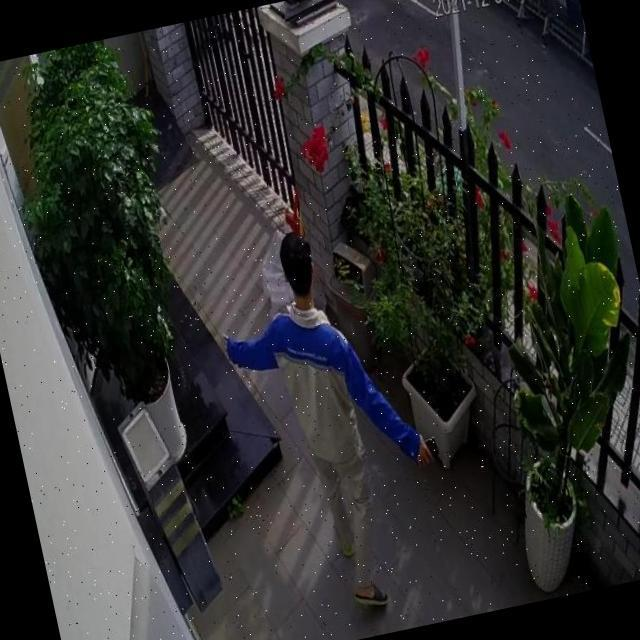person: (208, 212, 464, 628)
